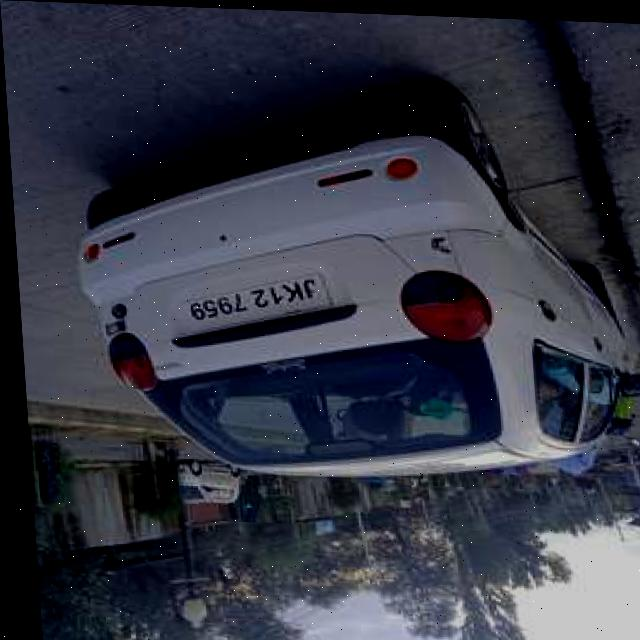plate: (177, 268, 334, 327)
